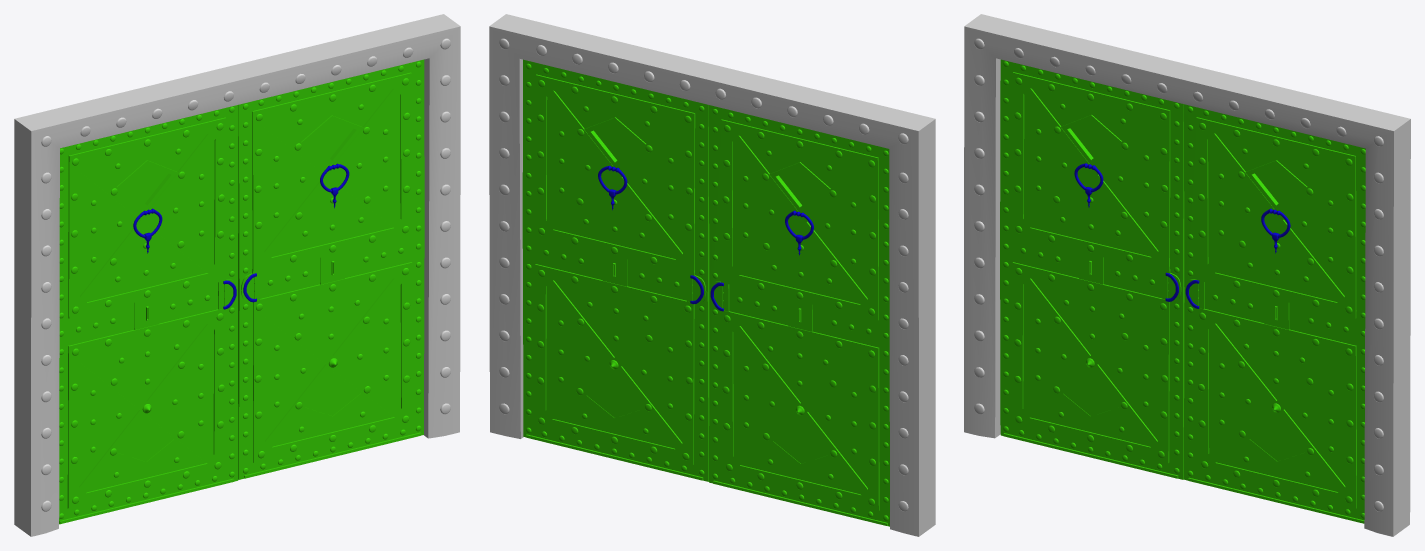
The model's file is Mdoor.fbx.
The picture shows the model from 3 angles, left to right: view 1: azimuth 30°, elevation 25°; view 2: azimuth 150°, elevation 25°; view 3: azimuth 330°, elevation 25°; orthographic projection.
Visible parts, largest first — view 1: Mdoor, Mdoorframe; view 2: Mdoor, Mdoorframe; view 3: Mdoor, Mdoorframe.
Part boxes in pixels (bbox=[...]): Mdoor: bbox=[59, 59, 424, 524]; Mdoorframe: bbox=[14, 14, 460, 536]; Mdoor: bbox=[522, 59, 889, 526]; Mdoorframe: bbox=[489, 14, 935, 536]; Mdoor: bbox=[1000, 59, 1365, 523]; Mdoorframe: bbox=[964, 14, 1410, 536].
Bounding box in the file's own units: 247 × 222 × 18.81.
